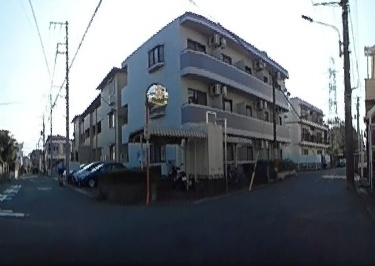person: (55, 159, 65, 185)
